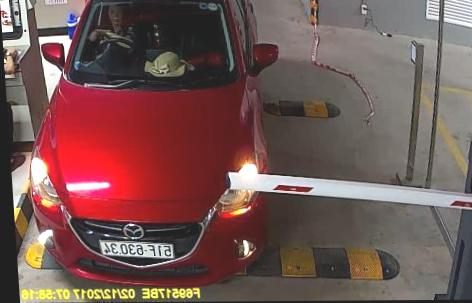License_Plate: (95, 237, 178, 258)
